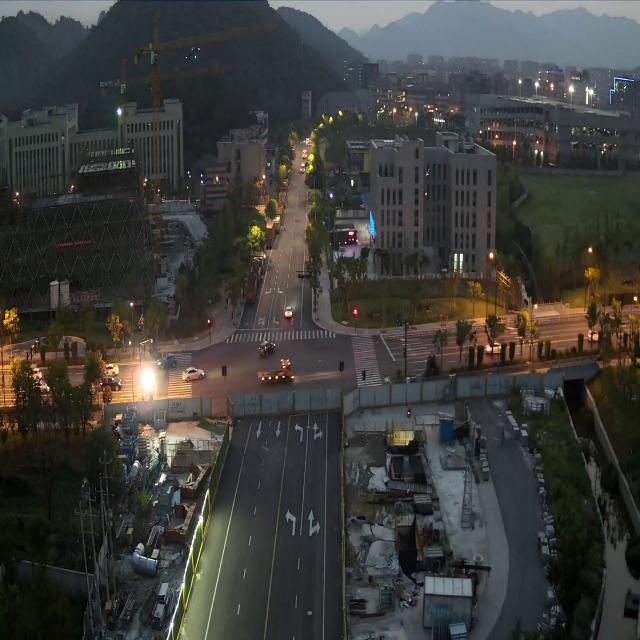UAV: (186, 46, 200, 59)
